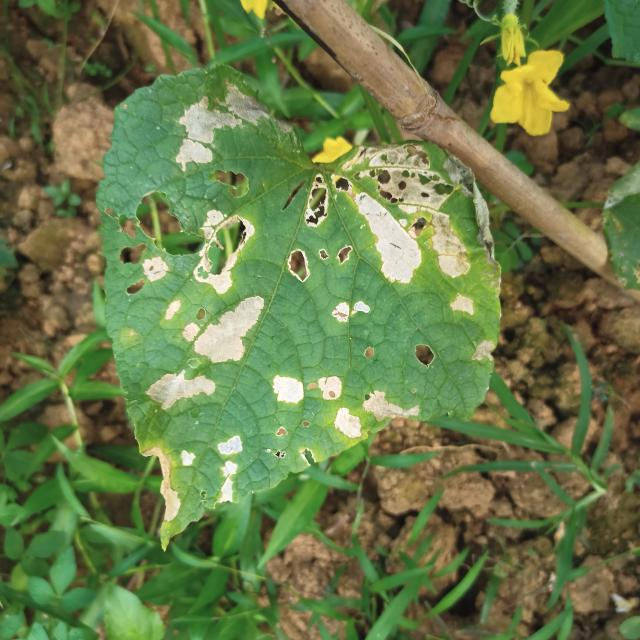disease_cucumber: (105, 296, 439, 536), (284, 136, 502, 370), (98, 71, 294, 303)
